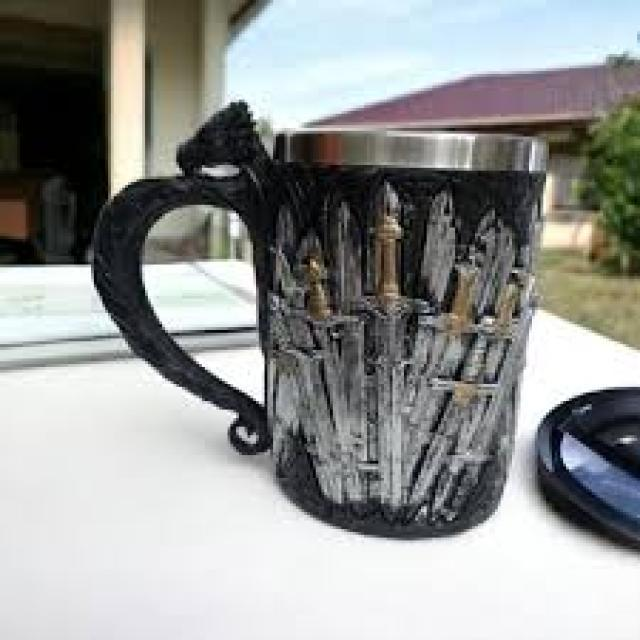taza: (88, 96, 548, 540)
